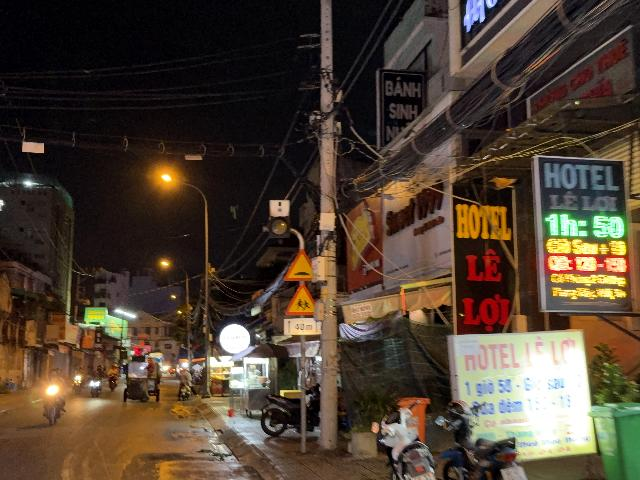duong-co-go-giam-toc: (284, 249, 312, 281)
tre-em-qua-duong: (285, 283, 316, 315)
